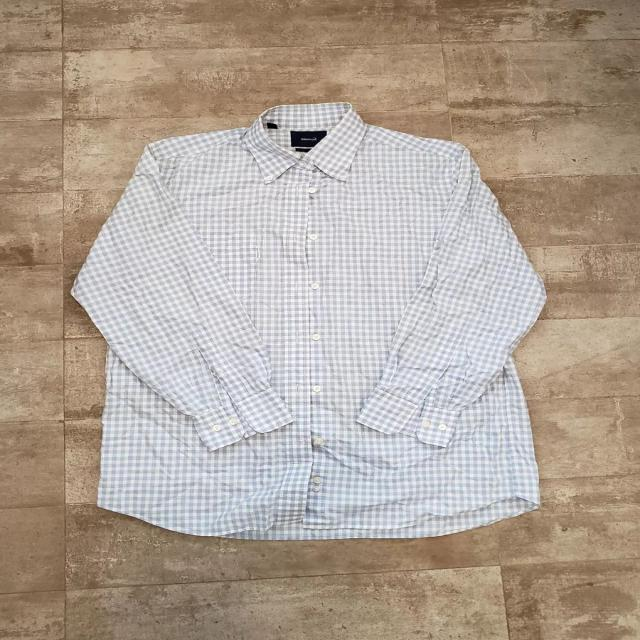long sleeve shirt: (70, 98, 548, 541)
